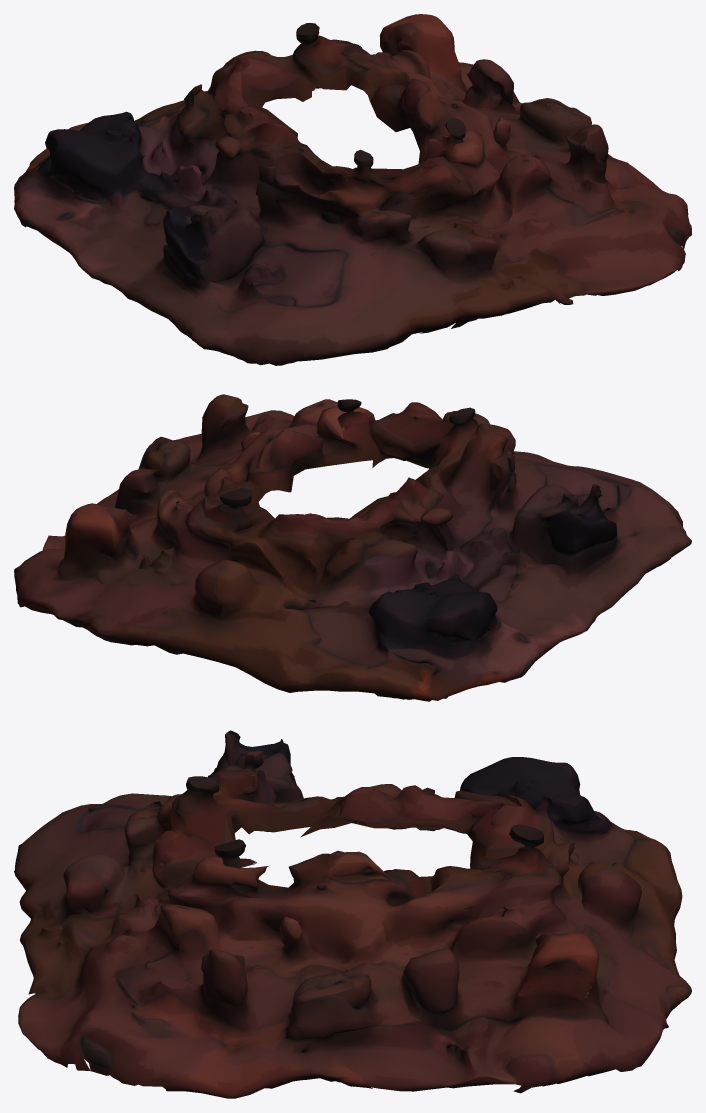
3 views of the same model, one above another, from view 1: azimuth 30°, elevation 25°; view 2: azimuth 150°, elevation 25°; view 3: azimuth 270°, elevation 25° (orthographic). The views are drawn at different scales.
Visible parts, largest first — view 1: cliffrock_generator59; view 2: cliffrock_generator59; view 3: cliffrock_generator59.
Boxes of the visible parts, bbox=[...] form: cliffrock_generator59: bbox=[14, 14, 691, 365]; cliffrock_generator59: bbox=[14, 394, 691, 701]; cliffrock_generator59: bbox=[14, 730, 691, 1098].
Size of the model in its own units: 20717 by 5024 by 20797.
